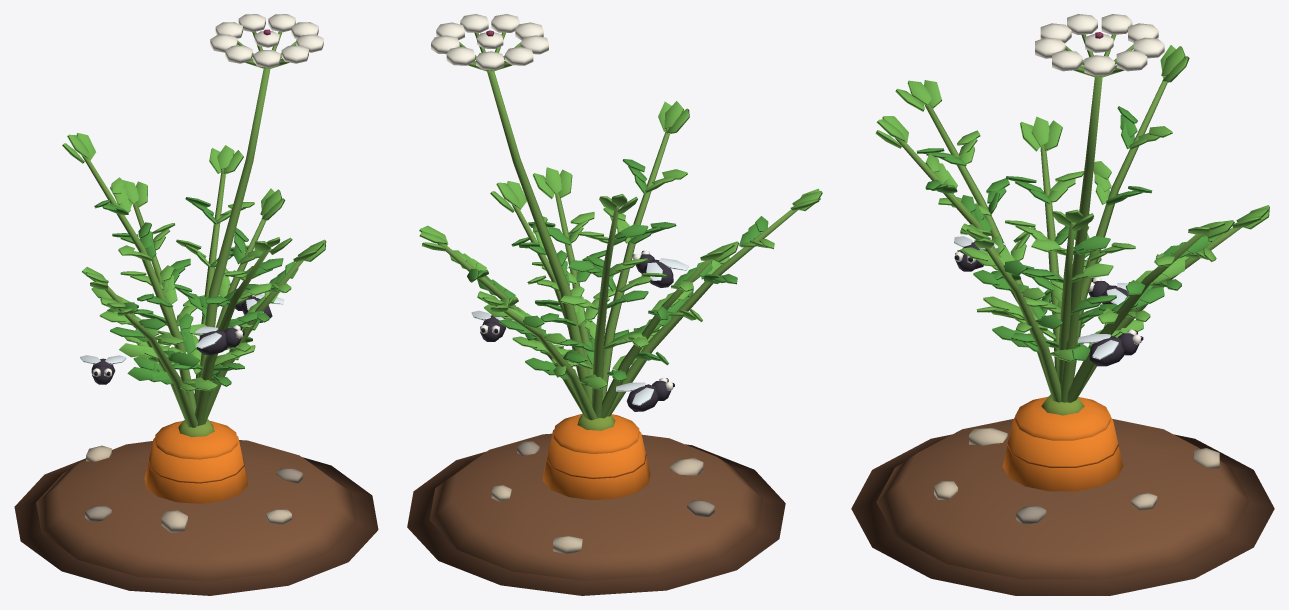
The model's file is carrot.glb.
The picture shows the model from 3 angles, left to right: view 1: azimuth 30°, elevation 25°; view 2: azimuth 150°, elevation 25°; view 3: azimuth 270°, elevation 25°; orthographic projection. The views are drawn at different scales.
Parts seen in each view (by area): view 1: RV_mound_soil, RV_mound_rim, RV_crown_shoulder, RV_shoot_stem, RV_crown_top, RV_mound, RV_leaf_4_stalk, RV_leaf_7_stalk, RV_leaf_6_stalk, RV_leaf_8_stalk, RV_leaf_2_stalk, RV_leaf_2 (+4 smaller); view 2: RV_mound_soil, RV_mound_rim, RV_crown_shoulder, RV_shoot_stem, RV_crown_top, RV_mound, RV_leaf_6_stalk, RV_leaf_7_stalk, RV_leaf_4_stalk, RV_leaf_5_stalk, RV_leaf_3_stalk, RV_leaf_8 (+5 smaller); view 3: RV_mound_soil, RV_mound_rim, RV_crown_shoulder, RV_crown_top, RV_shoot_stem, RV_mound, RV_leaf_4_stalk, RV_leaf_8_stalk, RV_leaf_2_stalk, RV_leaf_1_stalk, RV_leaf_5_stalk, RV_leaf_6_stalk (+10 smaller).
Part boxes in pixels (box(x1,y1,x2,y2)): RV_mound_soil: box(36, 440, 356, 581); RV_mound_rim: box(14, 457, 378, 595); RV_crown_shoulder: box(144, 436, 248, 503); RV_shoot_stem: box(195, 68, 270, 405); RV_crown_top: box(155, 421, 237, 459); RV_mound: box(85, 445, 302, 532); RV_leaf_4_stalk: box(81, 155, 196, 413); RV_leaf_7_stalk: box(195, 247, 270, 425); RV_leaf_6_stalk: box(118, 308, 197, 427); RV_leaf_8_stalk: box(203, 259, 304, 424); RV_leaf_2_stalk: box(194, 170, 225, 401); RV_leaf_2: box(209, 145, 243, 174); RV_mound_soil: box(429, 433, 763, 580); RV_mound_rim: box(407, 444, 785, 595); RV_crown_shoulder: box(542, 429, 650, 499); RV_shoot_stem: box(487, 71, 592, 405); RV_crown_top: box(553, 414, 639, 453); RV_mound: box(491, 441, 714, 554); RV_leaf_6_stalk: box(606, 209, 798, 416); RV_leaf_7_stalk: box(602, 128, 669, 400); RV_leaf_4_stalk: box(591, 206, 619, 418); RV_leaf_5_stalk: box(600, 259, 713, 418); RV_leaf_3_stalk: box(495, 305, 597, 420); RV_leaf_8: box(532, 167, 572, 199); RV_mound_soil: box(876, 419, 1249, 579); RV_mound_rim: box(851, 434, 1274, 595); RV_crown_shoulder: box(1002, 416, 1123, 491); RV_crown_top: box(1015, 397, 1110, 440); RV_shoot_stem: box(1061, 77, 1102, 402); RV_mound: box(934, 428, 1219, 524); RV_leaf_4_stalk: box(1073, 76, 1167, 379); RV_leaf_8_stalk: box(985, 248, 1061, 402); RV_leaf_2_stalk: box(1067, 233, 1204, 402); RV_leaf_1_stalk: box(1058, 222, 1075, 390); RV_leaf_5_stalk: box(1040, 146, 1060, 375); RV_leaf_6_stalk: box(924, 104, 1050, 393).
Size of the model in its own units: 0.5752 by 0.857 by 0.59.
